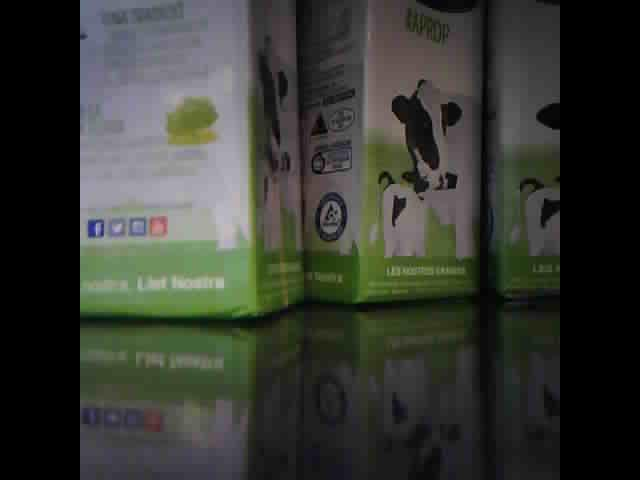leche: (82, 5, 298, 319), (308, 3, 483, 310), (491, 4, 558, 300)
